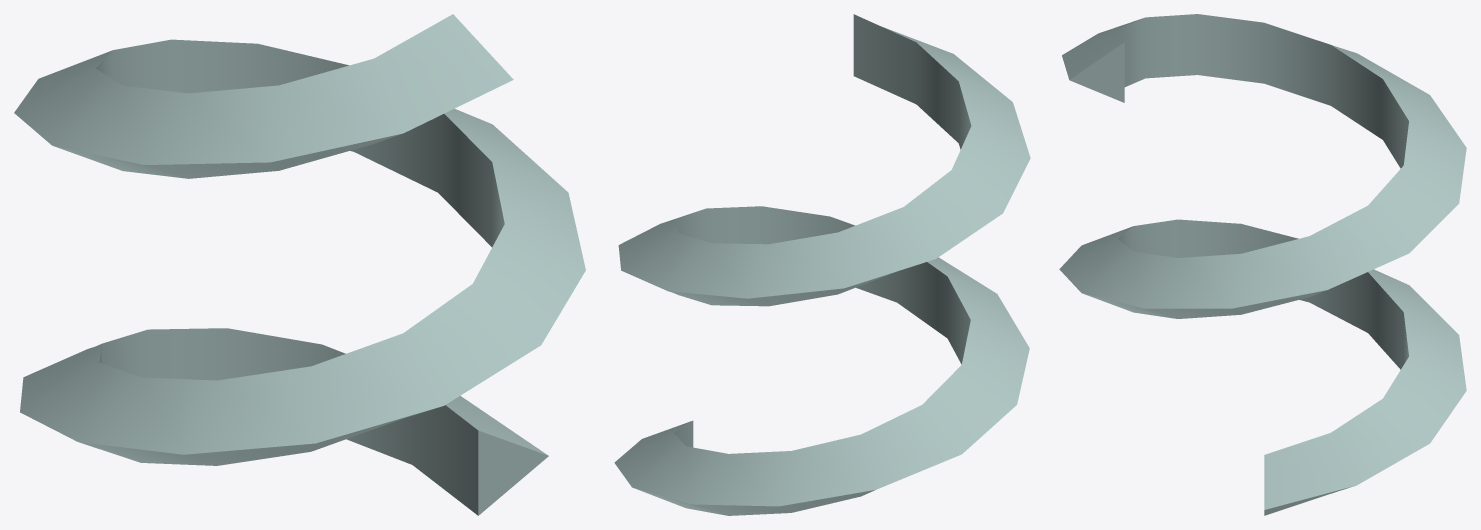
File: spring_fbx.fbx
3 views of the same model, side by side, from view 1: azimuth 30°, elevation 25°; view 2: azimuth 150°, elevation 25°; view 3: azimuth 270°, elevation 25° (orthographic). The views are drawn at different scales.
Visible parts, largest first — view 1: pHelix2; view 2: pHelix2; view 3: pHelix2.
Part boxes in pixels (box(x1,y1,x2,y2)): pHelix2: box(14, 14, 585, 515); pHelix2: box(614, 14, 1030, 515); pHelix2: box(1059, 14, 1466, 515).
Size of the model in its own units: 5.51 by 6.39 by 5.48.
